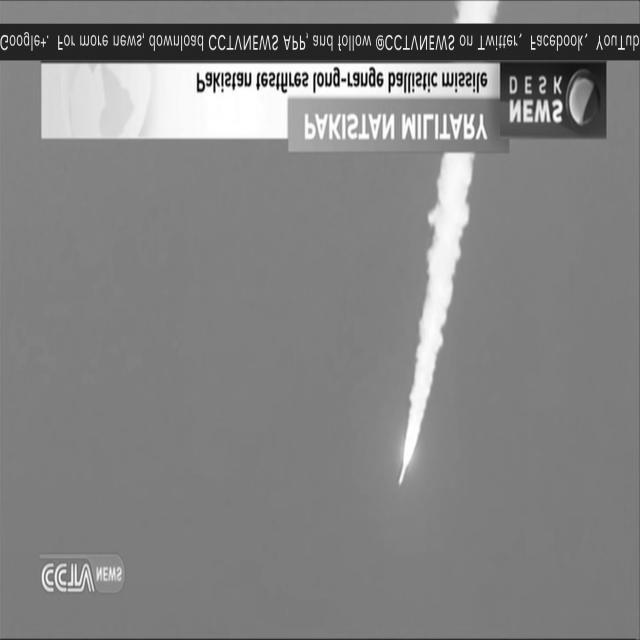missile: (397, 458, 407, 492)
